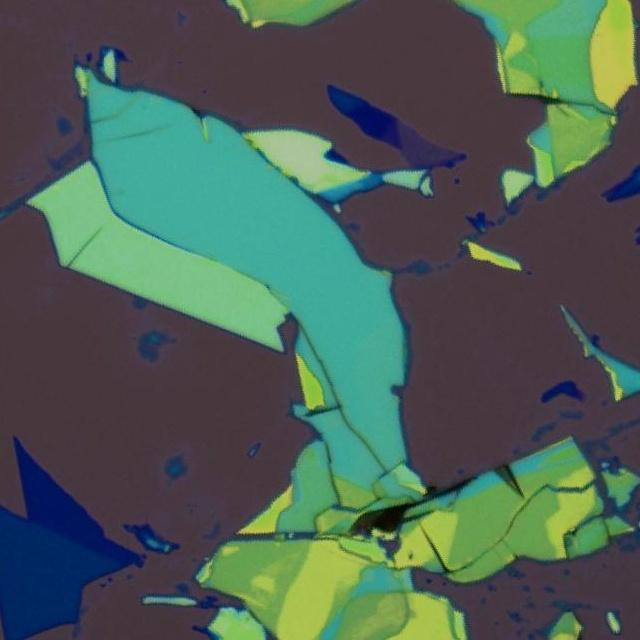monolayer-eWW4: (398, 118, 462, 168)
